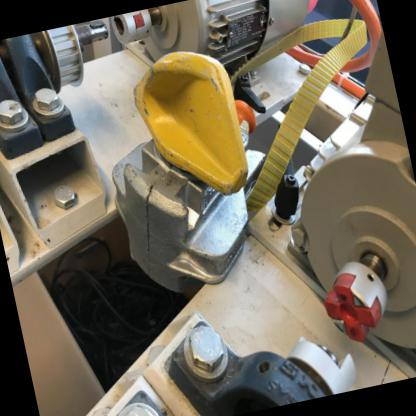Twistlock: (80, 34, 274, 311)
